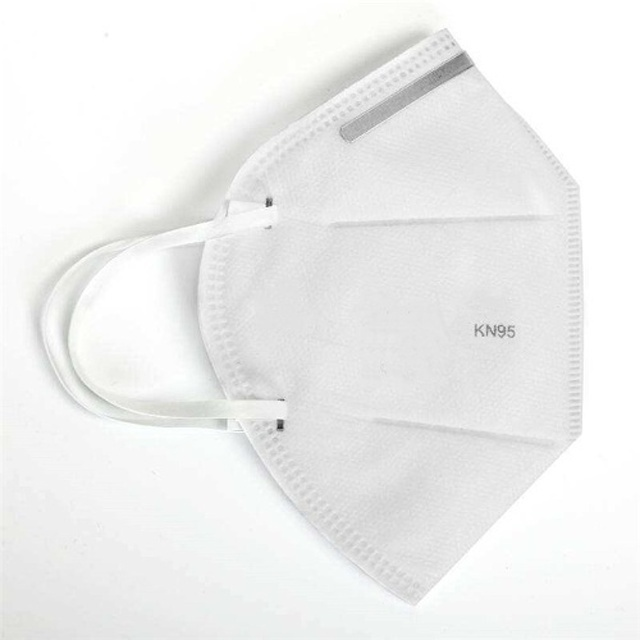mask: (40, 26, 589, 611)
